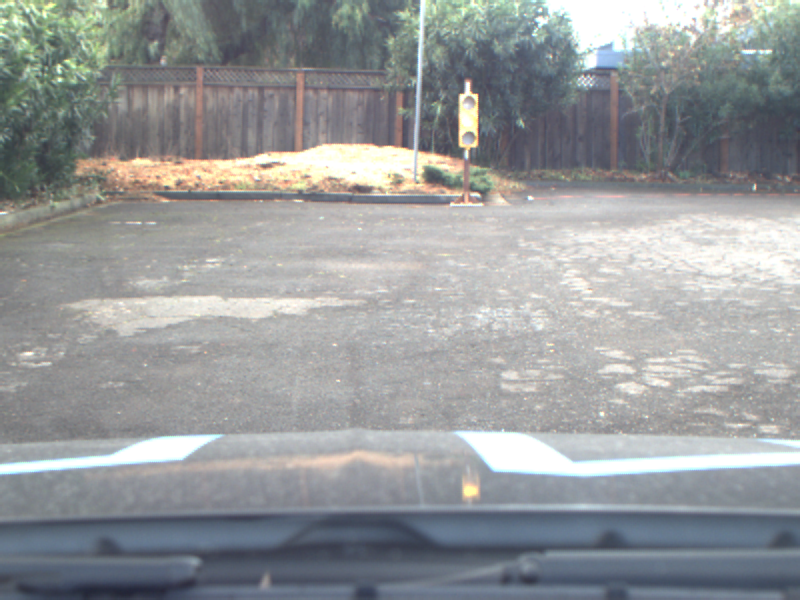Yellow: (458, 92, 479, 148)
